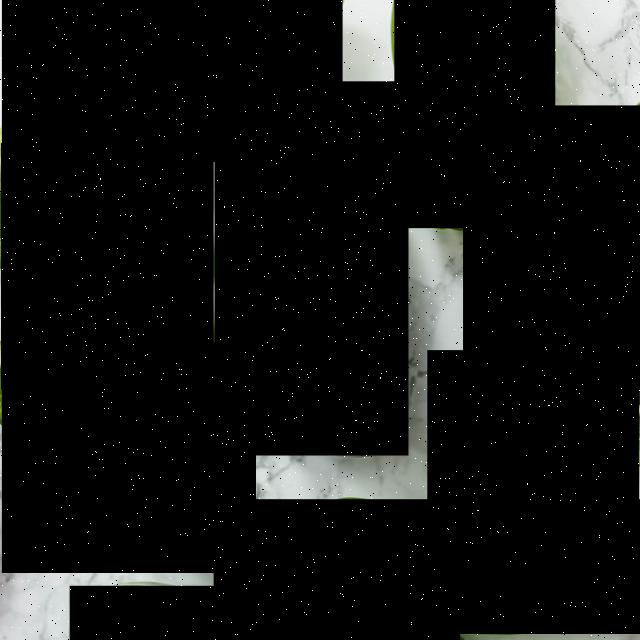Chili_Pepper: (215, 81, 408, 456), (2, 343, 256, 573), (214, 499, 640, 634), (2, 0, 343, 162), (1, 143, 214, 389), (463, 105, 640, 392), (394, 0, 555, 228), (427, 357, 639, 507), (70, 586, 457, 640)
